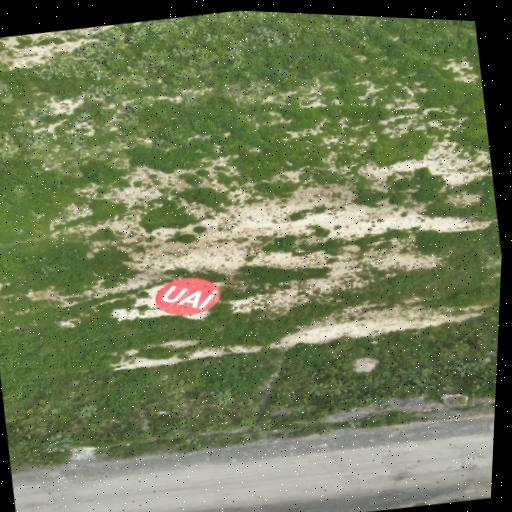uai: (154, 278, 219, 315)
